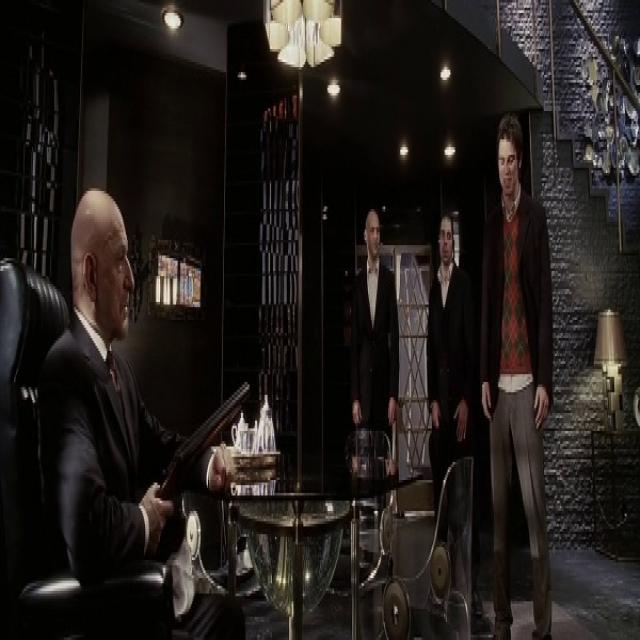rifle: (158, 371, 254, 508)
